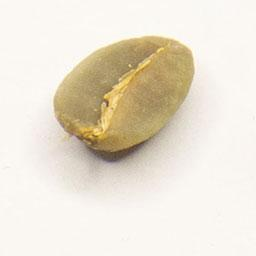premium: (50, 32, 198, 161)
